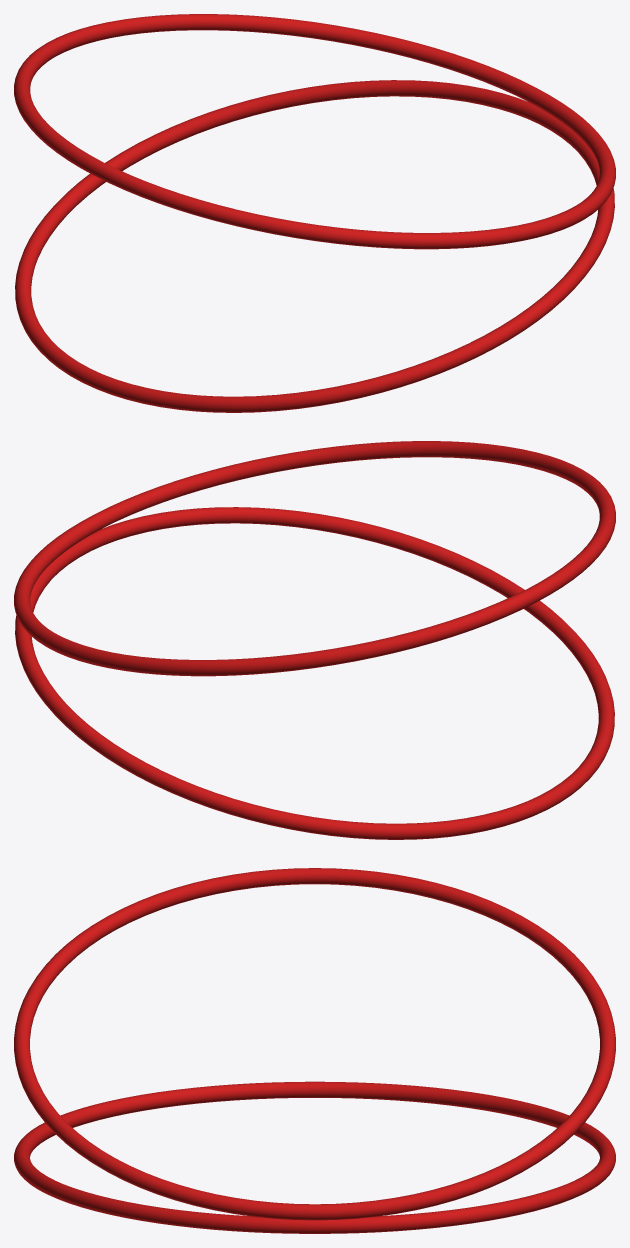
The model's file is Ohne Titel 1.fbx.
3 renders of one model, top to bottom at view 1: azimuth 30°, elevation 25°; view 2: azimuth 150°, elevation 25°; view 3: azimuth 270°, elevation 25°, orthographic.
Visible parts, largest first — view 1: Null; view 2: Null; view 3: Null.
Part boxes in pixels (bbox=[...]): Null: bbox=[14, 14, 615, 412]; Null: bbox=[14, 441, 615, 839]; Null: bbox=[14, 868, 615, 1233].
Bounding box in the file's own units: 108 × 45.51 × 109.
